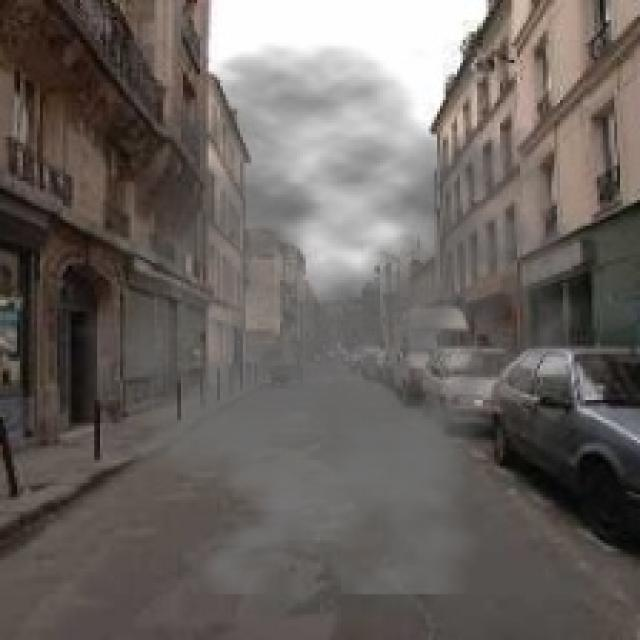smoke: (46, 43, 608, 594)
